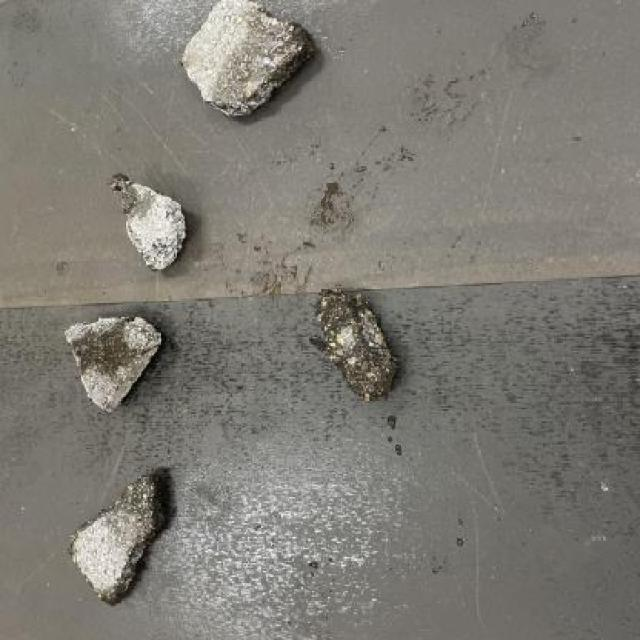Road Debris: (234, 16, 320, 118), (105, 168, 173, 226), (73, 323, 136, 371), (108, 476, 156, 530), (346, 357, 384, 392), (318, 294, 360, 322)
